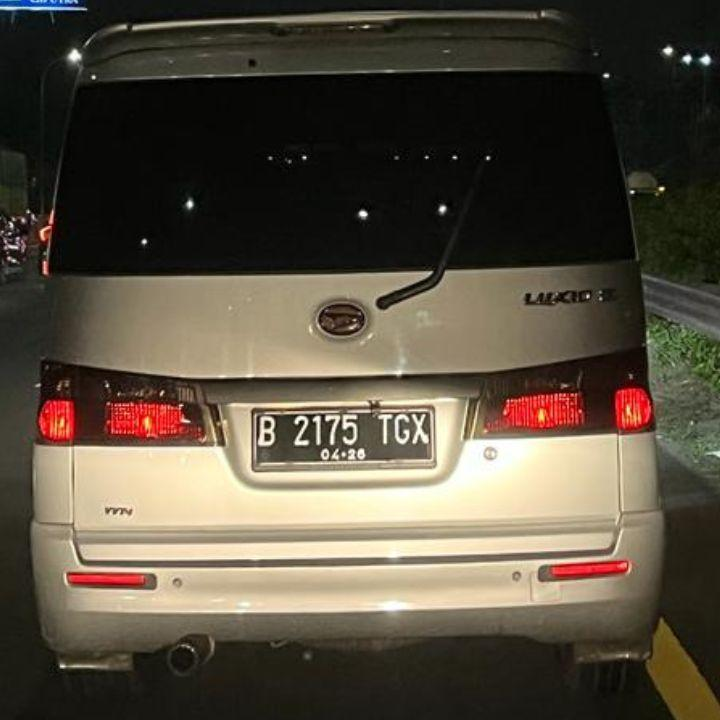plat: (252, 408, 436, 471)
